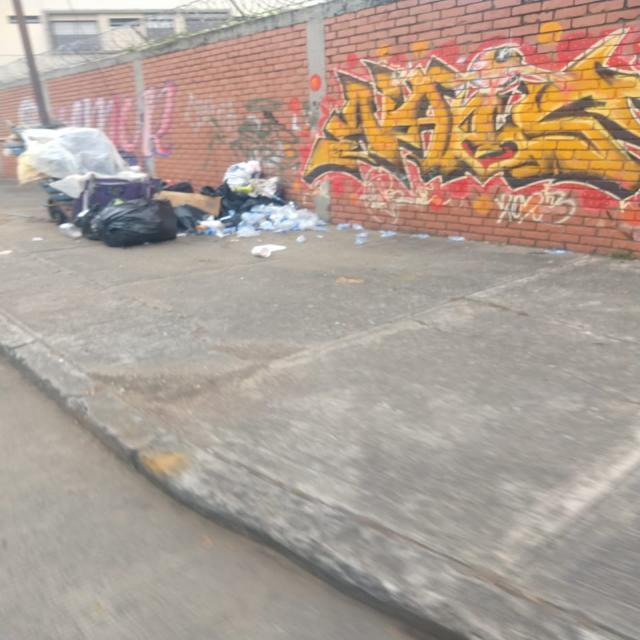Trashbag: (89, 187, 179, 249)
